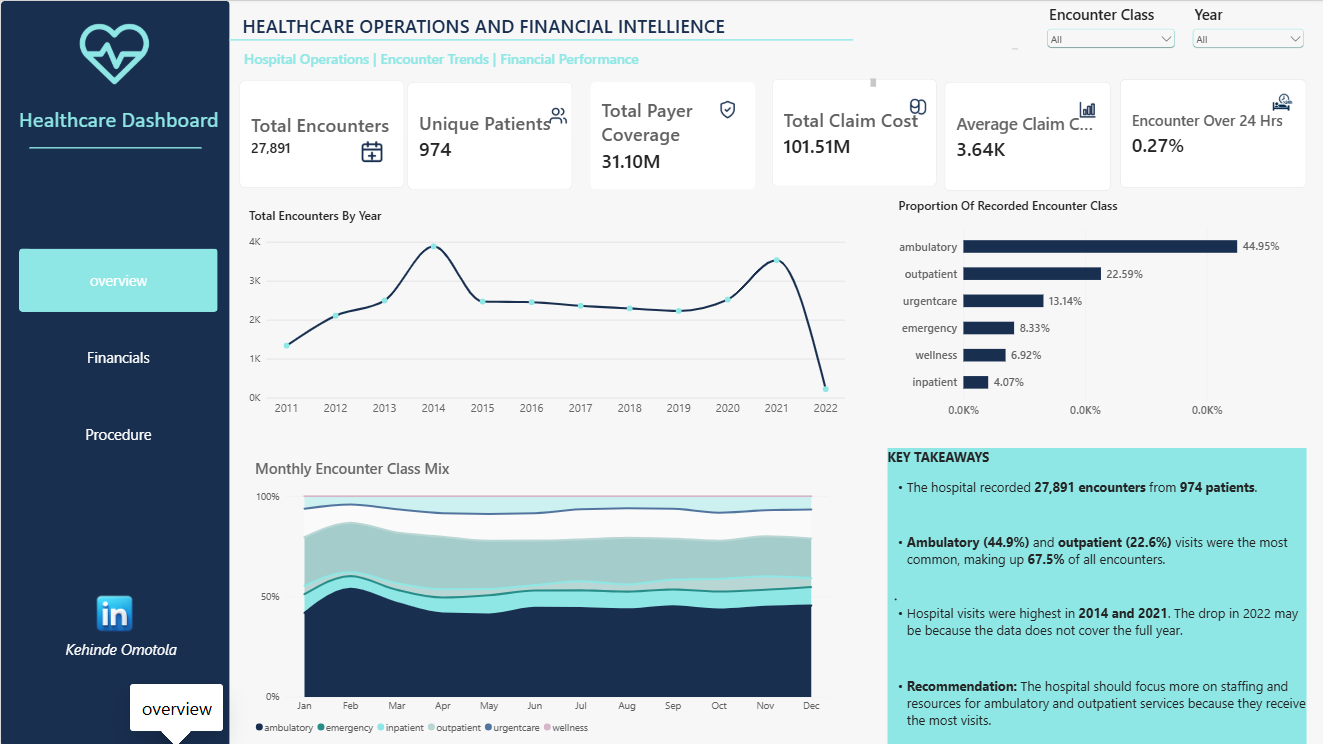

This screenshot's page, from the dashboard's own definition file:
{"tool":"powerbi","page":{"name":"overview","canvas":[1920,1080],"ordinal":0},"visuals":[{"type":"shape","box":[101,275,210.6,85.9],"z":0},{"type":"shape","box":[101,275,210.6,85.9],"z":1000},{"type":"cardVisual","title":"Total Encounters","fields":{"Data":["All Measures.Total Encounters"]},"box":[343.3,112.4,243,160],"z":2000},{"type":"cardVisual","fields":{"Data":["All Measures.Unique Patients"]},"box":[586.6,116,243,160],"z":3000},{"type":"cardVisual","title":"Payers Coverage","fields":{"Data":["All Measures.Total Payer Coverage"]},"box":[853,116,243,160],"z":4000},{"type":"cardVisual","fields":{"Data":["All Measures.Total Claim Cost"]},"box":[1115.1,111.7,243,160],"z":5000},{"type":"cardVisual","fields":{"Data":["All Measures.Average Claim Cost"]},"box":[1366.5,116,243,160],"z":6000},{"type":"shape","box":[0,0,331.6,1080.8],"z":7000},{"type":"textbox","title":"HEALTHCARE OPERATIONS AND FINANCIAL INTELLIENCE","box":[350.7,16.7,1123.8,52.5],"z":8000},{"type":"textbox","title":"Hospital Operations | Encounter Trends | Financial Performance","box":[353.1,69.2,916.2,54.9],"z":9000},{"type":"slicer","fields":{"Values":["DateTable.Year"]},"box":[1721,4.3,171.9,73.1],"z":10000},{"type":"image","box":[94.5,23.6,141.8,106.3],"z":11000},{"type":"image","box":[1559.9,144,28,28],"z":12000},{"type":"image","box":[1314.9,139.7,28,28],"z":13000},{"type":"image","box":[1039.9,144,28,28],"z":14000},{"type":"image","box":[792.9,151.9,28,28],"z":15000},{"type":"image","box":[516.5,200.5,40.8,36.5],"z":16000},{"type":"shape","box":[40.8,189.1,249.2,47.3],"z":17000},{"type":"textbox","box":[25.8,152.5,373.9,64.5],"z":18000},{"type":"shape","box":[330.9,43,904.6,25.8],"z":19000},{"type":"lineChart","title":"Total Encounters By Year","fields":{"Category":["DateTable.Year"],"Y":["All Measures.Total Encounters"]},"box":[343.3,285.6,896.2,337.2],"z":20000},{"type":"barChart","title":"Proportion Of Recorded Encounter Class","fields":{"Category":["encounters.ENCOUNTERCLASS"],"Y":["All Measures.Encounter Class %"]},"box":[1285.1,270.4,607.6,355.4],"z":21000},{"type":"hundredPercentStackedAreaChart","title":"Monthly Encounter Class Mix","fields":{"Category":["DateTable.Month Name"],"Series":["encounters.ENCOUNTERCLASS"],"Y":["All Measures.Total Encounters"]},"box":[352,647.4,864.7,434.7],"z":22000},{"type":"slicer","fields":{"Values":["encounters.ENCOUNTERCLASS"]},"box":[1510.5,4.3,195.5,73.1],"z":23000},{"type":"pageNavigator","box":[26,359.1,288.2,316.6],"z":24000},{"type":"image","box":[129.9,852.9,68.5,70.9],"z":25000},{"type":"textbox","box":[94.5,923.8,165.4,59.1],"z":26000},{"type":"textbox","title":"KEY POINT","box":[1285.3,647.4,607.2,432.4],"z":27000},{"type":"cardVisual","fields":{"Data":["All Measures.Encounters Over 24 Hours %"]},"box":[1622.2,113.9,270.7,159],"z":28000},{"type":"image","box":[1822,116,70.9,64.5],"z":28001}]}

Visuals, with their boxes in screenshot pixels (x1, y1, x2, y2), scaled from the page's 1920x1080 canvas onto the 1323x744 screenshot:
shape: [70, 189, 215, 249]
shape: [70, 189, 215, 249]
"Total Encounters" cardVisual: [237, 77, 404, 188]
cardVisual - All Measures.Unique Patients: [404, 80, 572, 190]
"Payers Coverage" cardVisual: [588, 80, 755, 190]
cardVisual - All Measures.Total Claim Cost: [768, 77, 936, 187]
cardVisual - All Measures.Average Claim Cost: [942, 80, 1109, 190]
shape: [0, 0, 228, 743]
"HEALTHCARE OPERATIONS AND FINANCIAL INTELLIENCE" textbox: [242, 12, 1016, 48]
"Hospital Operations | Encounter Trends | Financial Performance" textbox: [243, 48, 875, 85]
slicer - DateTable.Year: [1186, 3, 1304, 53]
image: [65, 16, 163, 89]
image: [1075, 99, 1094, 118]
image: [906, 96, 925, 116]
image: [717, 99, 736, 118]
image: [546, 105, 566, 124]
image: [356, 138, 384, 163]
shape: [28, 130, 200, 163]
textbox: [18, 105, 275, 149]
shape: [228, 30, 851, 47]
"Total Encounters By Year" lineChart: [237, 197, 854, 429]
"Proportion Of Recorded Encounter Class" barChart: [886, 186, 1304, 431]
"Monthly Encounter Class Mix" hundredPercentStackedAreaChart: [243, 446, 838, 743]
slicer - encounters.ENCOUNTERCLASS: [1041, 3, 1176, 53]
pageNavigator: [18, 247, 217, 465]
image: [90, 588, 137, 636]
textbox: [65, 636, 179, 677]
"KEY POINT" textbox: [886, 446, 1304, 743]
cardVisual - All Measures.Encounters Over 24 Hours %: [1118, 78, 1304, 188]
image: [1255, 80, 1304, 124]
